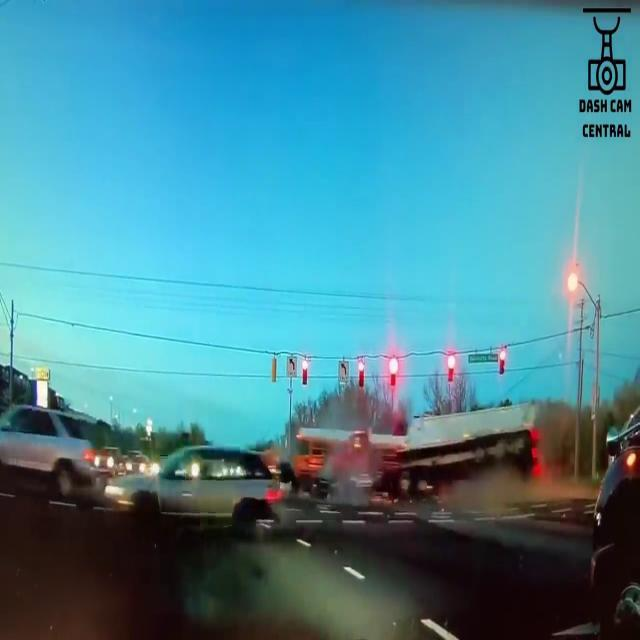accident: (334, 390, 544, 522)
